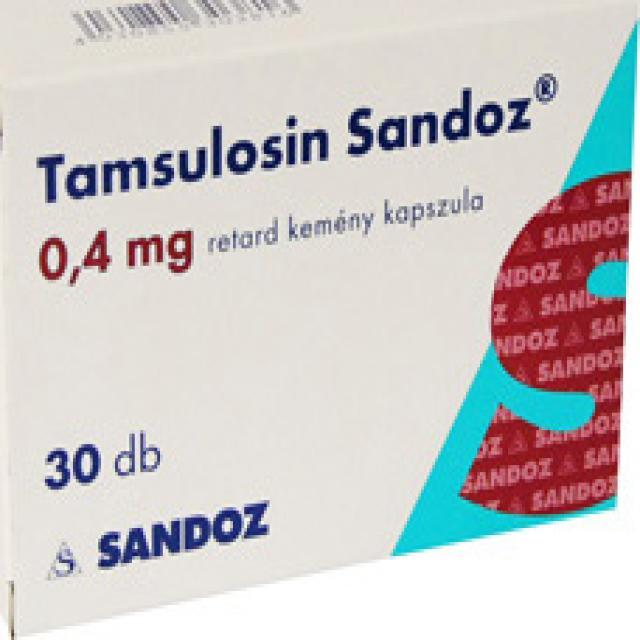drug-name: (29, 76, 533, 217)
